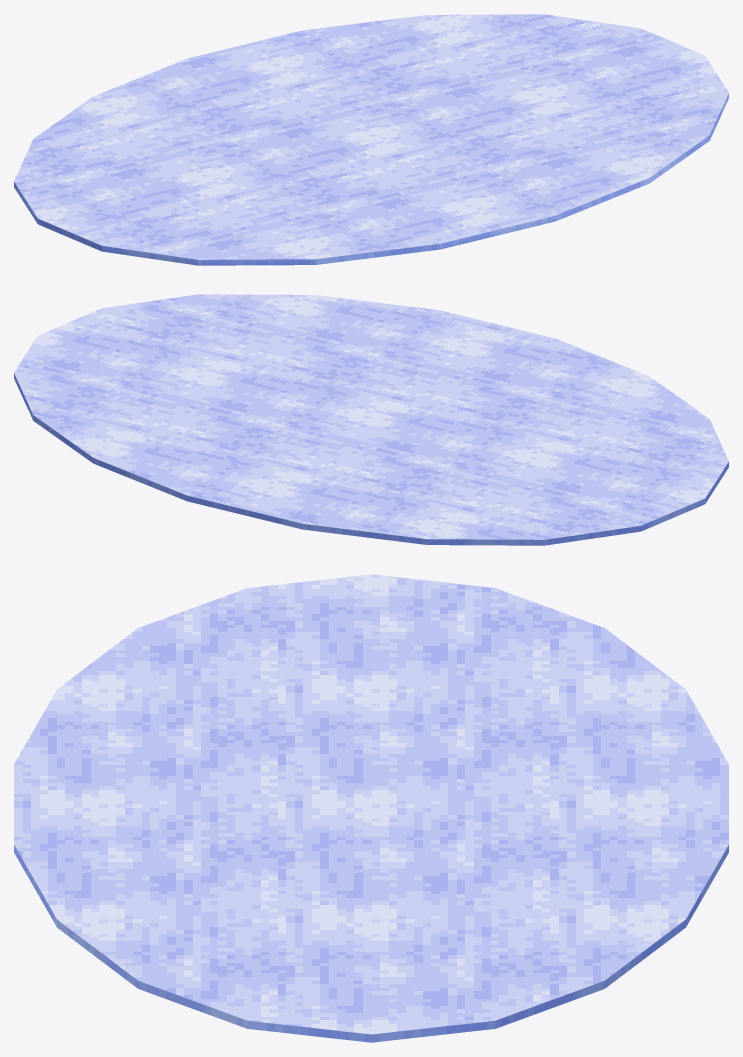
File: furn.rug.glb
3 renders of one model, top to bottom at view 1: azimuth 30°, elevation 25°; view 2: azimuth 150°, elevation 25°; view 3: azimuth 270°, elevation 25°, orthographic. The views are drawn at different scales.
Visible parts, largest first — view 1: kit_rug; view 2: kit_rug; view 3: kit_rug.
Boxes of the visible parts, box(x1,y1,x2,y2) form: kit_rug: box(14, 14, 728, 265); kit_rug: box(14, 294, 728, 545); kit_rug: box(14, 574, 728, 1042).
Bounding box in the file's own units: 2.4 × 0.02 × 1.58.
1 material, 1 textured.
